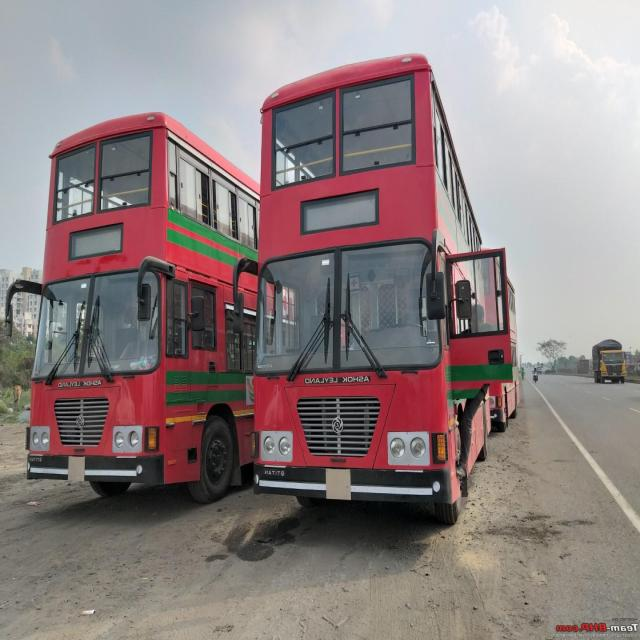Double decker: (239, 51, 498, 538), (16, 109, 257, 499)
Truck: (593, 343, 627, 385)
